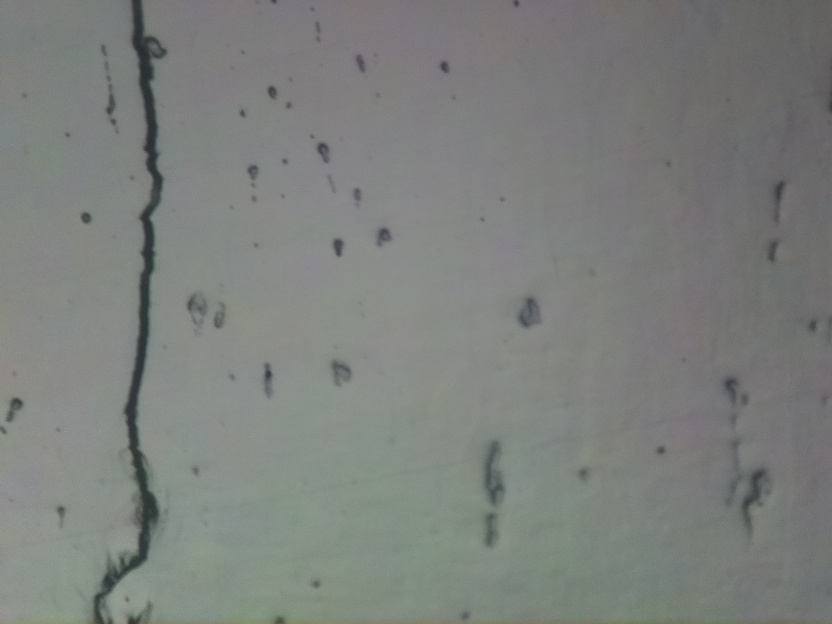crack: (90, 0, 162, 624)
